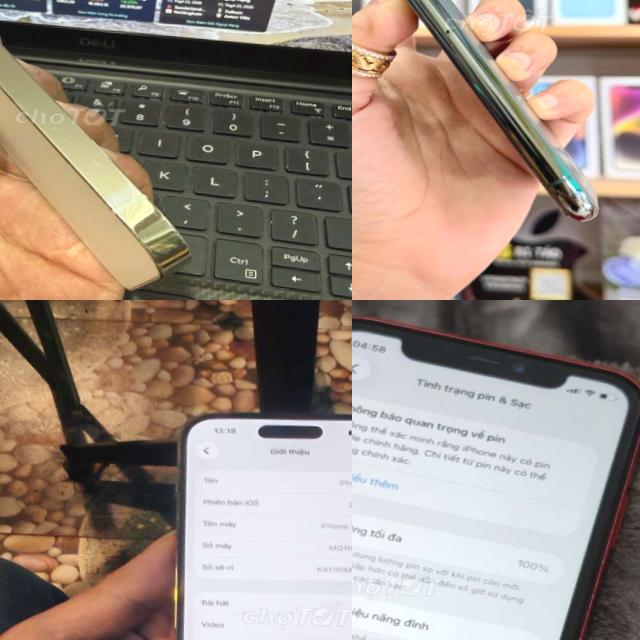gen_11: (352, 308, 640, 640), (407, 0, 598, 220)
gen_12_13: (0, 0, 201, 294)
gen_14: (143, 395, 352, 640)
